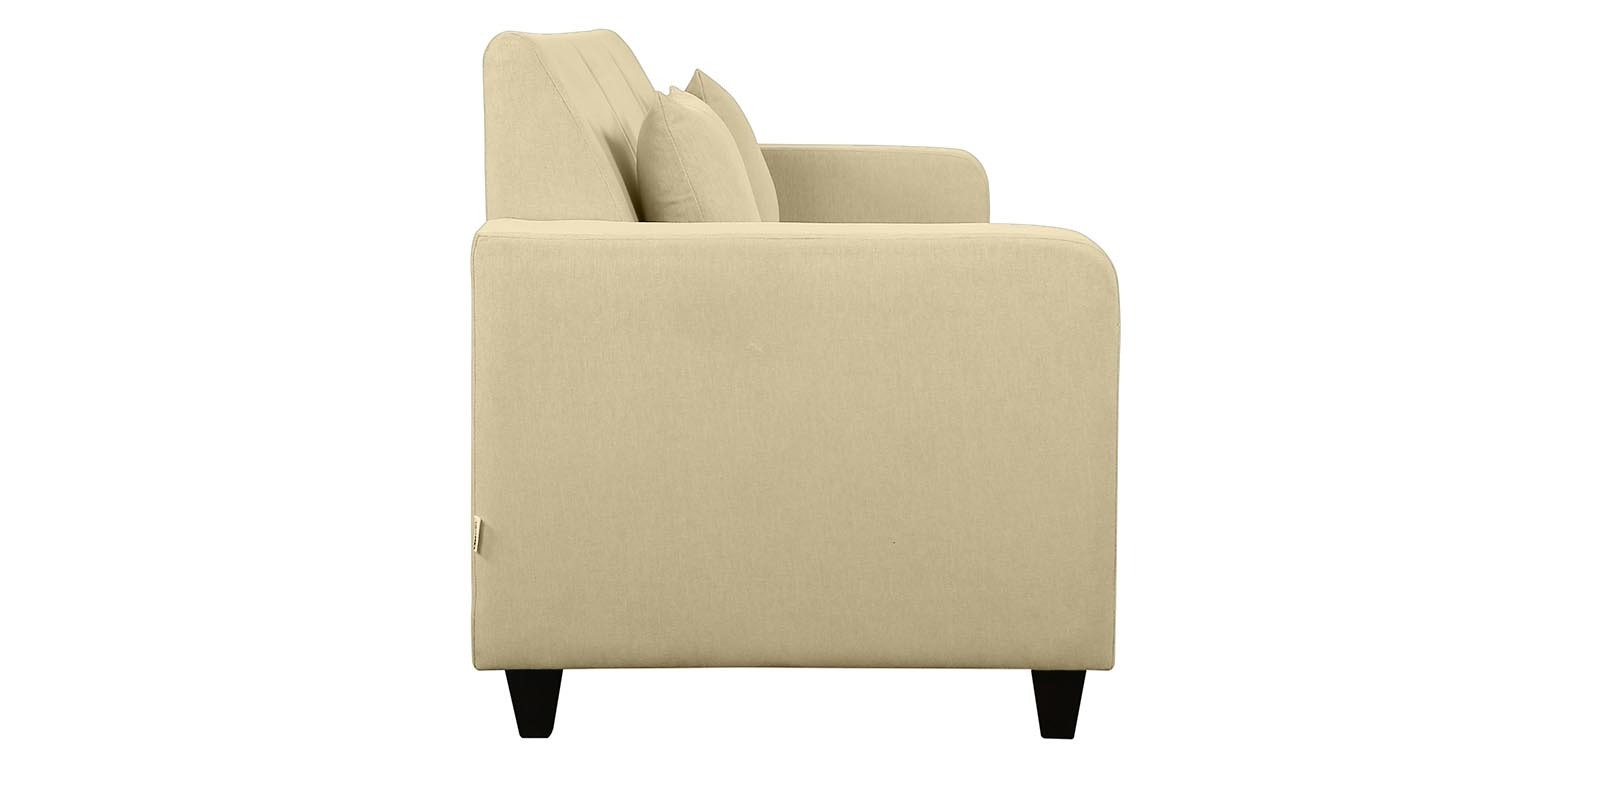Alba Three Seater Sofa in Beige Colour by CasaCraft: (460, 21, 1132, 757)
